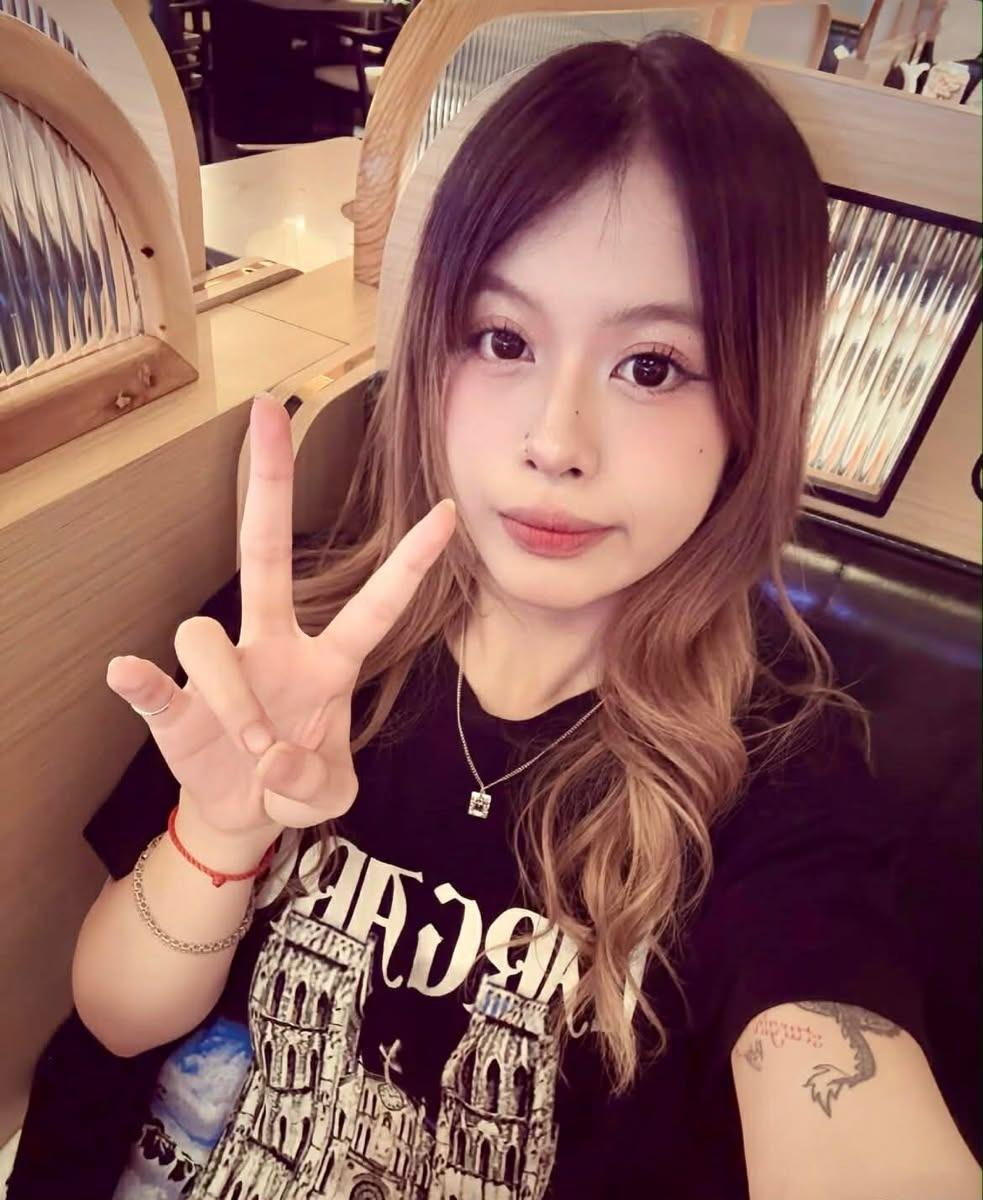non-dog: (69, 33, 983, 1200)
